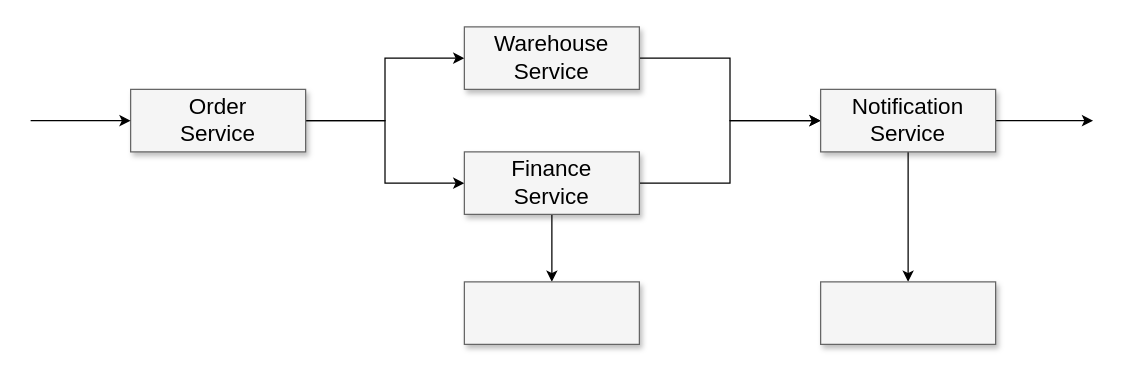
Image size: 1125x375. Some labels were removed from this diagram. Here are the shapes that lost their labels. From the top down, the centre of each, then its label:
At pixel 552 314: "Catalogue Service".
At pixel 908 314: "Customer Service".
